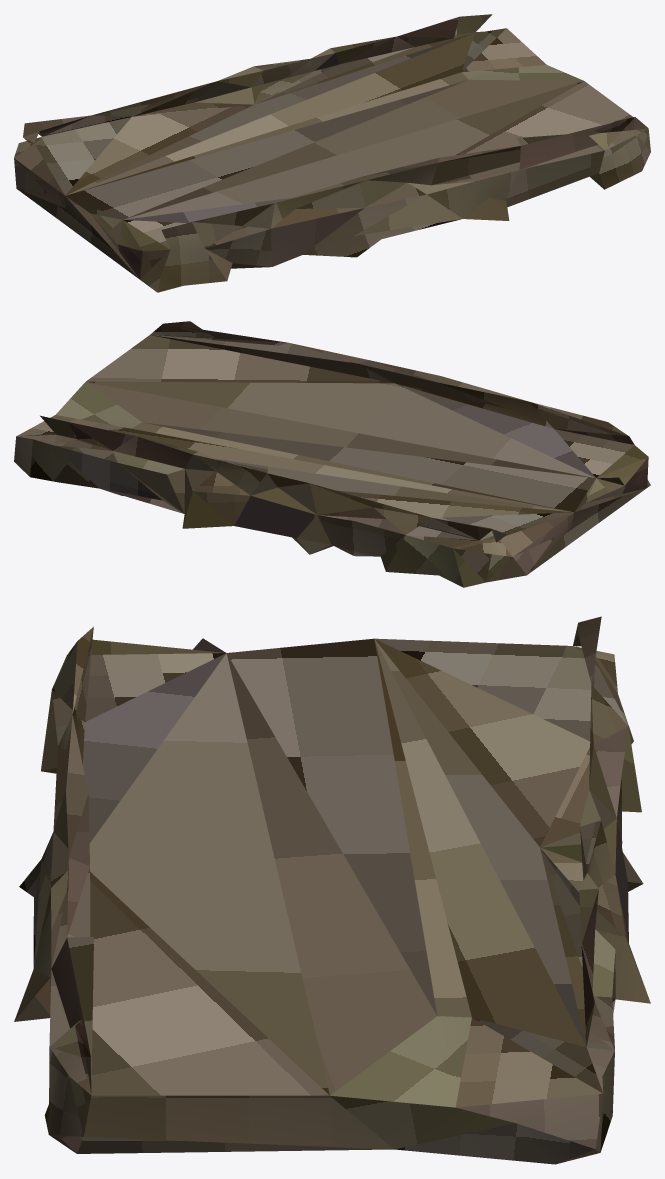
The model's file is road-straight.collision.glb.
3 views of the same model, one above another, from view 1: azimuth 30°, elevation 25°; view 2: azimuth 150°, elevation 25°; view 3: azimuth 270°, elevation 25° (orthographic). The views are drawn at different scales.
Parts seen in each view (by area): view 1: output_unwrapped; view 2: output_unwrapped; view 3: output_unwrapped.
Part boxes in pixels (<box>): output_unwrapped: <box>14,14,650,292</box>; output_unwrapped: <box>14,321,650,587</box>; output_unwrapped: <box>14,616,650,1164</box>.
Size of the model in its own units: 1.89 by 0.2314 by 1.11.
Materials: 1 (1 with a texture image).
